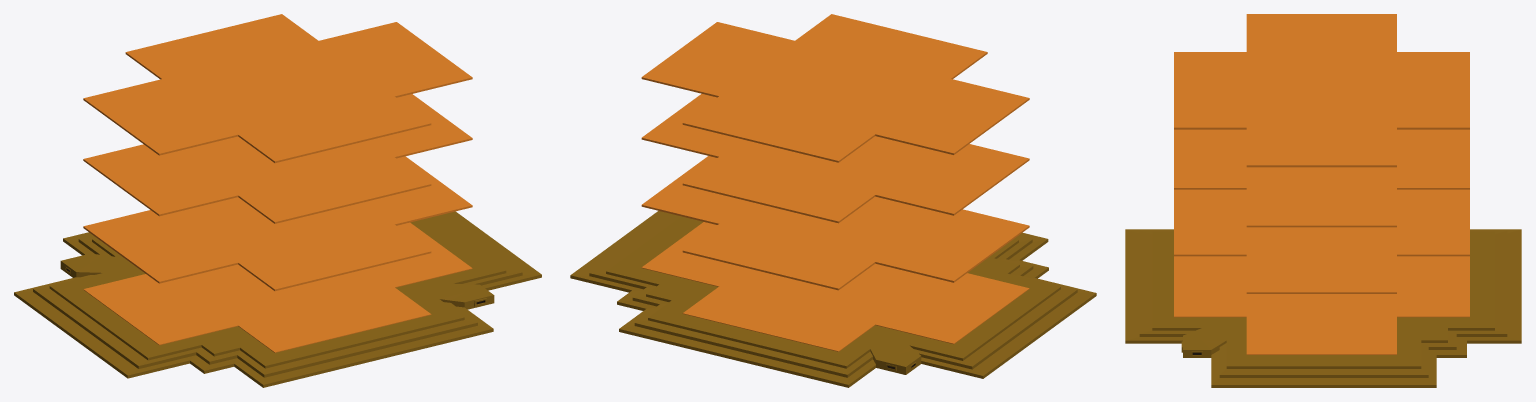
The model's file is Lalibela (2).fbx.
3 views of the same model, side by side, from view 1: azimuth 30°, elevation 25°; view 2: azimuth 150°, elevation 25°; view 3: azimuth 270°, elevation 25° (orthographic).
Parts seen in each view (by area): view 1: Lalibela_Roof, InsideDark, Lalibela_2nd_Base, Lalibela_1st_Base, Lalibela_3nd_Base; view 2: Lalibela_Roof, InsideDark, Lalibela_2nd_Base, Lalibela_1st_Base, Lalibela_3nd_Base; view 3: Lalibela_Roof, InsideDark, Lalibela_2nd_Base, Lalibela_1st_Base, Lalibela_3nd_Base.
Boxes of the visible parts, x1=… form: Lalibela_Roof: x1=83, y1=14, x2=472, y2=163; InsideDark: x1=14, y1=211, x2=541, y2=387; Lalibela_2nd_Base: x1=83, y1=156, x2=472, y2=291; Lalibela_1st_Base: x1=83, y1=222, x2=472, y2=352; Lalibela_3nd_Base: x1=83, y1=94, x2=472, y2=223; Lalibela_Roof: x1=641, y1=14, x2=1029, y2=162; InsideDark: x1=570, y1=211, x2=1096, y2=387; Lalibela_2nd_Base: x1=641, y1=156, x2=1029, y2=290; Lalibela_1st_Base: x1=641, y1=222, x2=1029, y2=351; Lalibela_3nd_Base: x1=641, y1=94, x2=1029, y2=223; Lalibela_Roof: x1=1174, y1=14, x2=1469, y2=167; InsideDark: x1=1125, y1=229, x2=1521, y2=387; Lalibela_2nd_Base: x1=1174, y1=189, x2=1469, y2=293; Lalibela_1st_Base: x1=1174, y1=256, x2=1469, y2=354; Lalibela_3nd_Base: x1=1174, y1=129, x2=1469, y2=227.
Bounding box in the file's own units: 3927 × 1809 × 3287.
